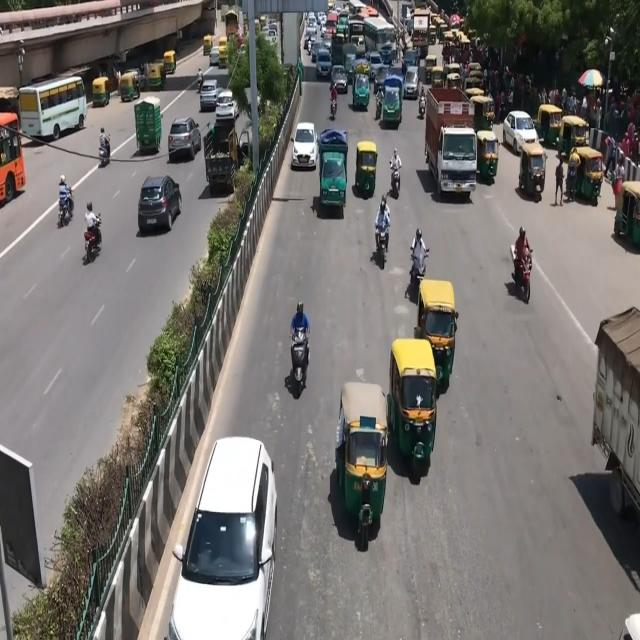Bike: (512, 226, 536, 314), (373, 191, 392, 279)
Scooty: (286, 288, 317, 406)
Tempo: (315, 129, 352, 230)
Truck: (426, 82, 480, 200)
